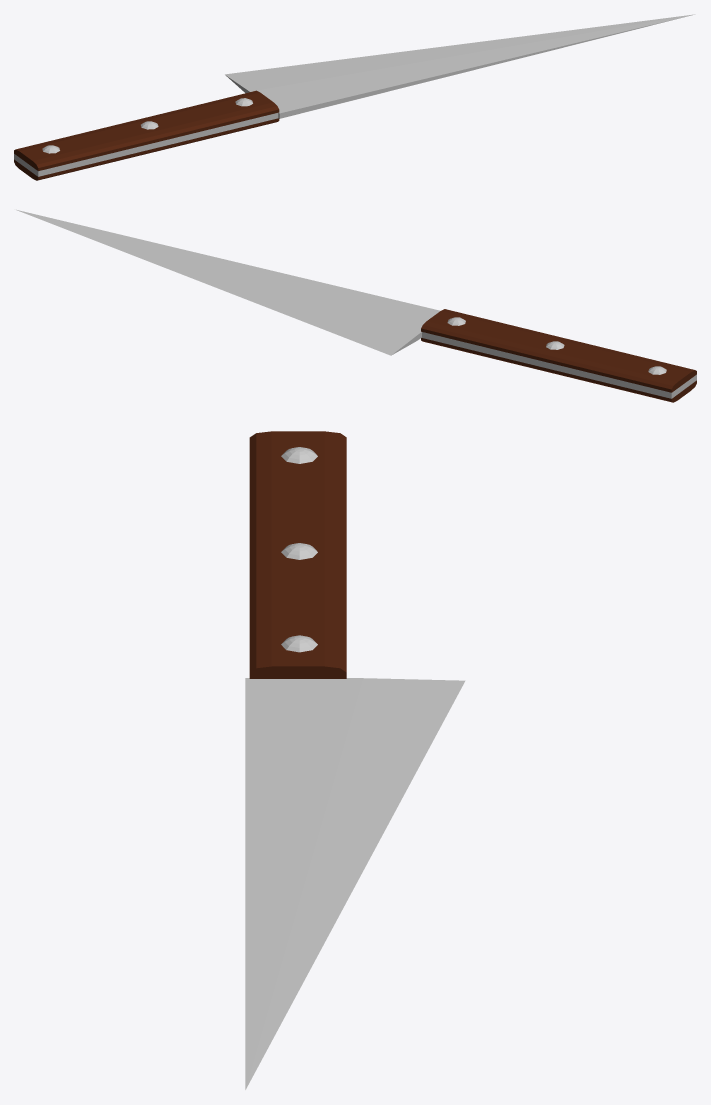
Rendered from Coteau3.fbx.
3 views of the same model, one above another, from view 1: azimuth 30°, elevation 25°; view 2: azimuth 150°, elevation 25°; view 3: azimuth 270°, elevation 25° (orthographic). The views are drawn at different scales.
Visible parts, largest first — view 1: Cube.001, Cube; view 2: Cube.001, Cube; view 3: Cube.001, Cube.
Boxes of the visible parts, x1=… form: Cube.001: x1=14, y1=14, x2=695, y2=176; Cube: x1=14, y1=90, x2=279, y2=180; Cube.001: x1=16, y1=209, x2=696, y2=398; Cube: x1=421, y1=309, x2=696, y2=402; Cube.001: x1=245, y1=447, x2=465, y2=1089; Cube: x1=249, y1=431, x2=346, y2=678.
Size of the model in its own units: 324 by 11.55 by 46.95.
